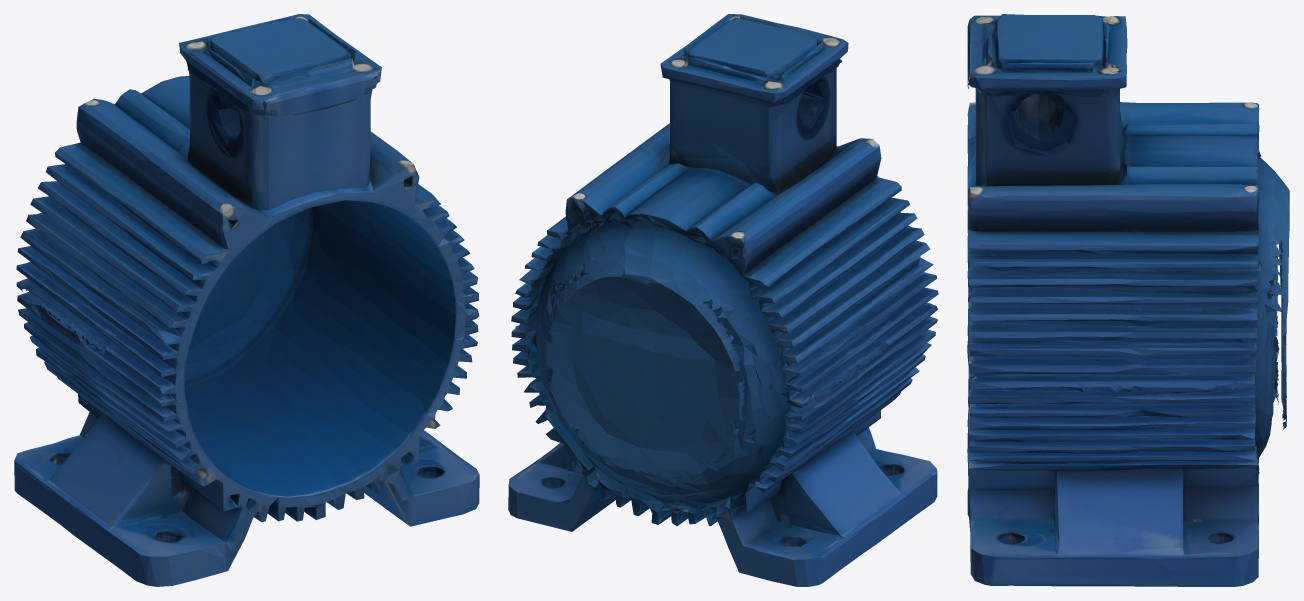
Rendered from Electric_Motor_Casing_0603230402_texture.fbx.
The picture shows the model from 3 angles, left to right: view 1: azimuth 30°, elevation 25°; view 2: azimuth 150°, elevation 25°; view 3: azimuth 270°, elevation 25°; orthographic projection. The views are drawn at different scales.
Visible parts, largest first — view 1: temp; view 2: temp; view 3: temp.
Boxes of the visible parts, <box> form: temp: <box>14,14,479,586</box>; temp: <box>508,14,938,586</box>; temp: <box>967,14,1289,586</box>.
Size of the model in its own units: 150 by 200 by 125.
Materials: 1 (1 with a texture image).
